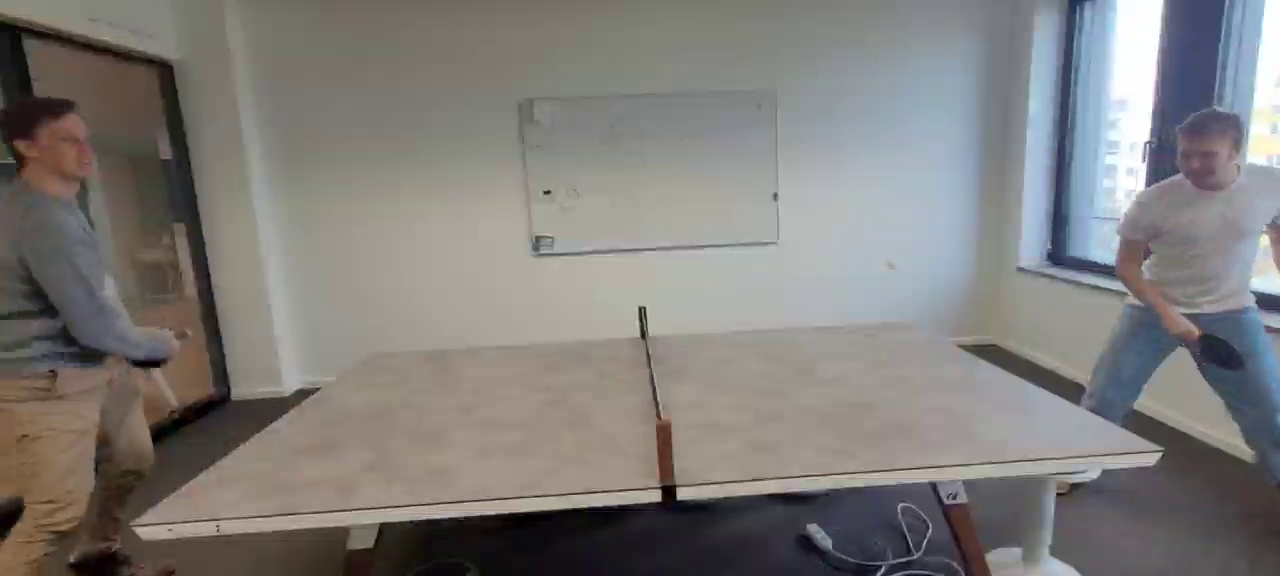1: (1199, 332, 1243, 370)
2: (884, 257, 900, 271)
ttplatte: (131, 320, 1166, 524)
